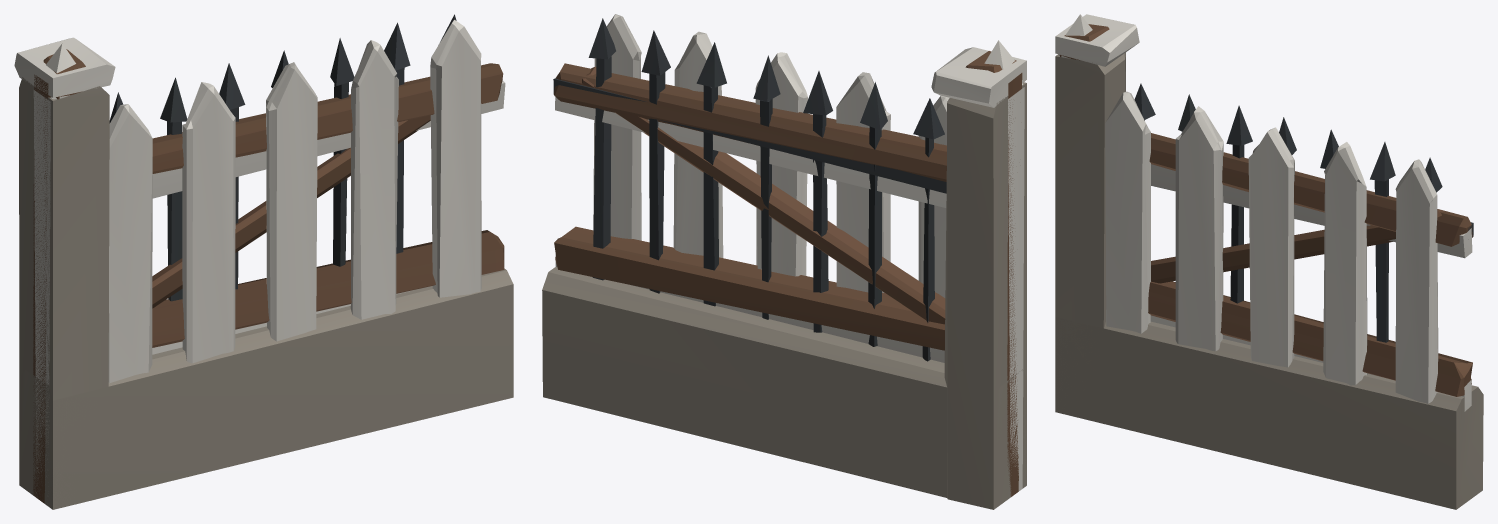
File: fence.glb
3 views of the same model, side by side, from view 1: azimuth 30°, elevation 25°; view 2: azimuth 150°, elevation 25°; view 3: azimuth 330°, elevation 25° (orthographic). The views are drawn at different scales.
Parts seen in each view (by area): view 1: fence.v2.mesh, fence.v0.mesh, fence.v1.mesh; view 2: fence.v2.mesh, fence.v1.mesh, fence.v0.mesh; view 3: fence.v2.mesh, fence.v0.mesh, fence.v1.mesh.
Boxes of the visible parts, box(x1,y1,x2,y2) form: fence.v2.mesh: box(14, 14, 513, 509); fence.v0.mesh: box(33, 20, 505, 476); fence.v1.mesh: box(32, 49, 504, 503); fence.v2.mesh: box(542, 18, 1026, 509); fence.v1.mesh: box(553, 51, 1022, 496); fence.v0.mesh: box(555, 14, 1024, 491); fence.v2.mesh: box(1055, 14, 1483, 509); fence.v0.mesh: box(1058, 14, 1472, 411); fence.v1.mesh: box(1060, 24, 1473, 396).
Bounding box in the file's own units: 1 × 0.944 × 0.1448.
